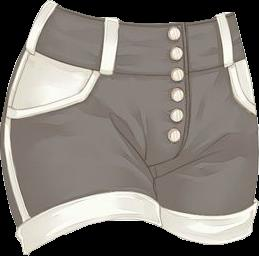Hemline: (27, 219, 161, 255), (161, 226, 254, 245)
Pantleg: (1, 0, 189, 254), (152, 12, 258, 244)
Waistline: (23, 44, 247, 76), (16, 189, 160, 229), (51, 0, 234, 25), (159, 201, 257, 216)
